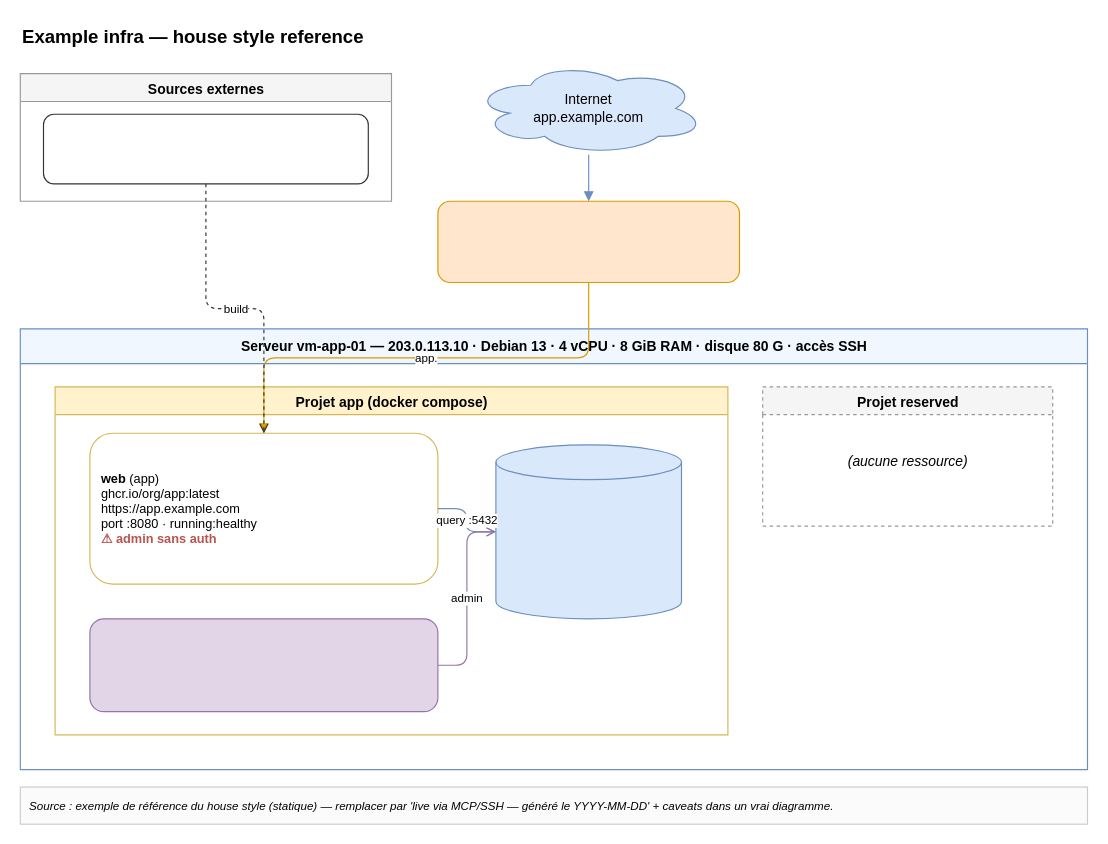
Some shapes in this 1108 by 844 pixel diagram are drawn without their labels. Each missing label, with the centre of its shape:
"GitHub org/app @main source CI/CD" goes at (x=205, y=148).
"pgAdmin (service) dpage/pgadmin4:latest https://db.example.com running:healthy" goes at (x=263, y=665).
"PostgreSQL postgres:16-alpine privé (interne) healthy" goes at (x=588, y=531).
"Traefik (reverse proxy) :80 / :443 · TLS Let's Encrypt" goes at (x=588, y=241).
